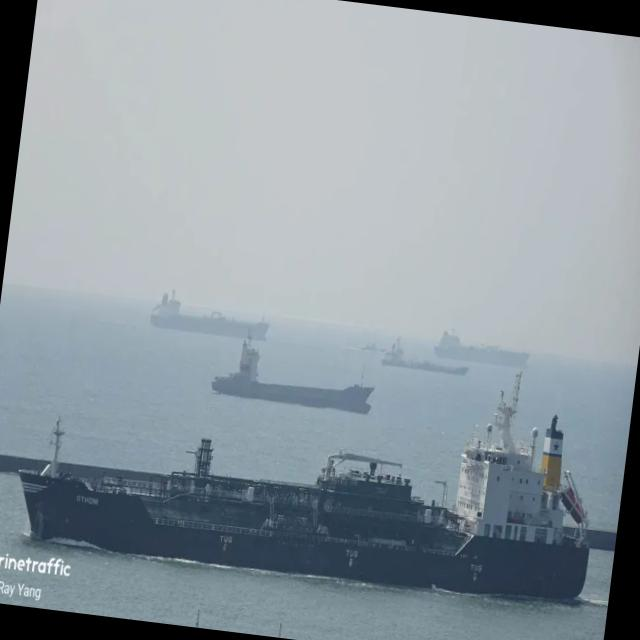Tanker: (18, 374, 589, 600), (212, 334, 373, 414), (151, 290, 268, 340)
